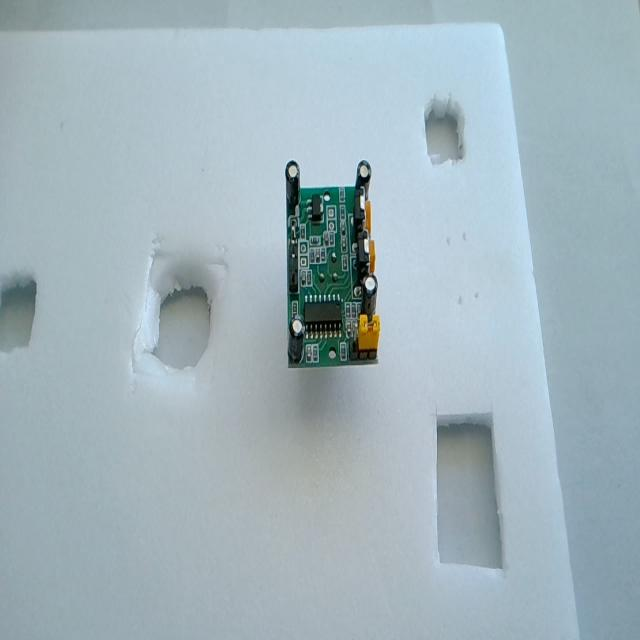Electrolytic capacitor: (285, 158, 301, 212), (287, 316, 305, 364), (360, 274, 378, 318), (355, 159, 371, 199)
IC: (303, 300, 342, 340)
pinheader: (283, 212, 302, 298)
